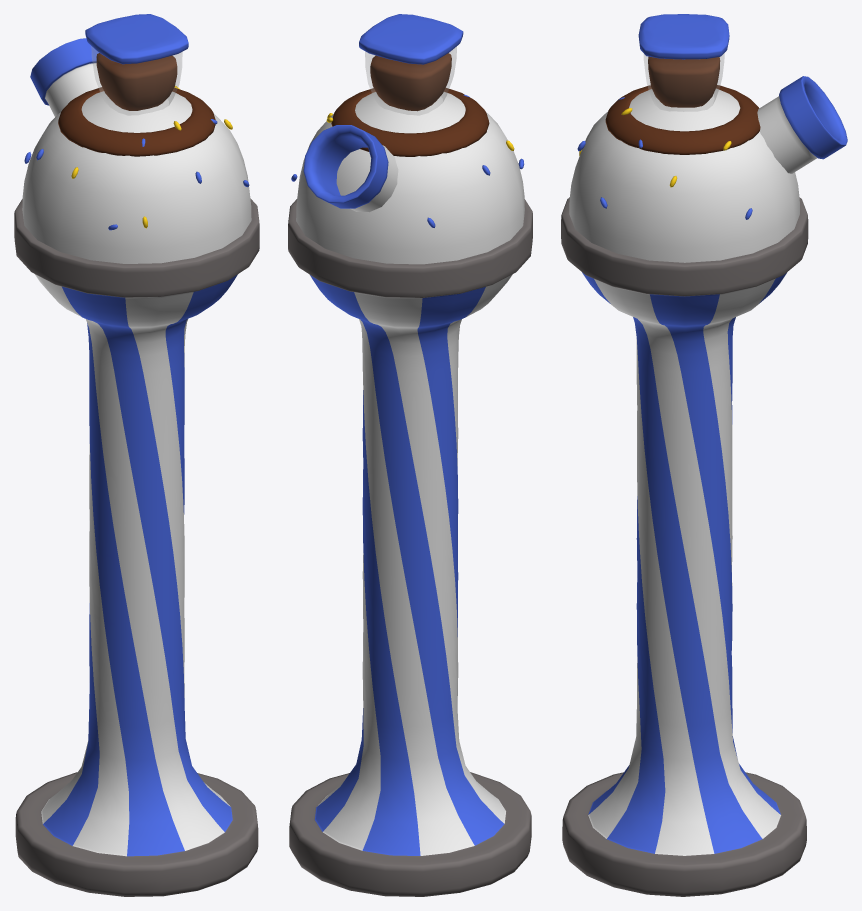
Rendered from Tower_Attack_AOE (2).fbx.
The picture shows the model from 3 angles, left to right: view 1: azimuth 30°, elevation 25°; view 2: azimuth 150°, elevation 25°; view 3: azimuth 270°, elevation 25°; orthographic projection.
Visible parts, largest first — view 1: Cylinder.003, Cube.050, ChocHolder.001, Circle; view 2: Cylinder.003, Cube.050, ChocHolder.001, Circle; view 3: Cylinder.003, Cube.050, ChocHolder.001, Circle.
Boxes of the visible parts, x1=… form: Cylinder.003: x1=14, y1=198, x2=259, y2=896; Cube.050: x1=22, y1=38, x2=251, y2=263; ChocHolder.001: x1=85, y1=14, x2=188, y2=114; Circle: x1=58, y1=87, x2=215, y2=156; Cylinder.003: x1=288, y1=199, x2=532, y2=896; Cube.050: x1=291, y1=92, x2=524, y2=264; ChocHolder.001: x1=359, y1=14, x2=463, y2=114; Circle: x1=331, y1=88, x2=489, y2=156; Cylinder.003: x1=561, y1=197, x2=808, y2=896; Cube.050: x1=569, y1=76, x2=847, y2=262; ChocHolder.001: x1=638, y1=14, x2=729, y2=111; Circle: x1=605, y1=85, x2=760, y2=154.
Size of the model in its own units: 82.85 by 303 by 96.19.
